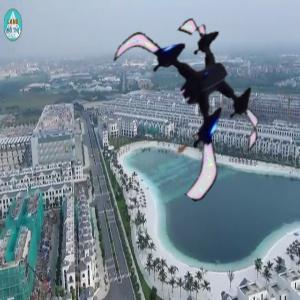drone: (104, 6, 278, 180)
